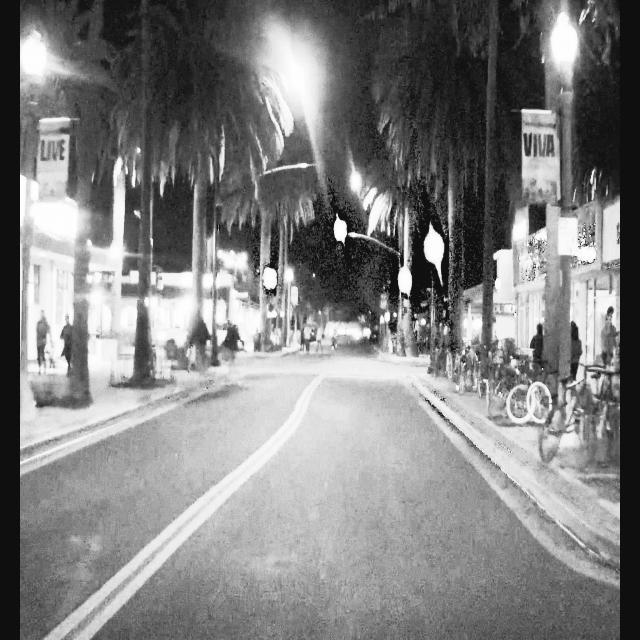Bicycle: (538, 361, 620, 468)
Light: (423, 231, 444, 257), (333, 222, 349, 242), (397, 273, 413, 292), (262, 271, 278, 289)
Tree: (62, 0, 103, 413), (125, 0, 163, 393), (180, 0, 214, 372), (476, 21, 499, 394), (440, 112, 468, 363)
